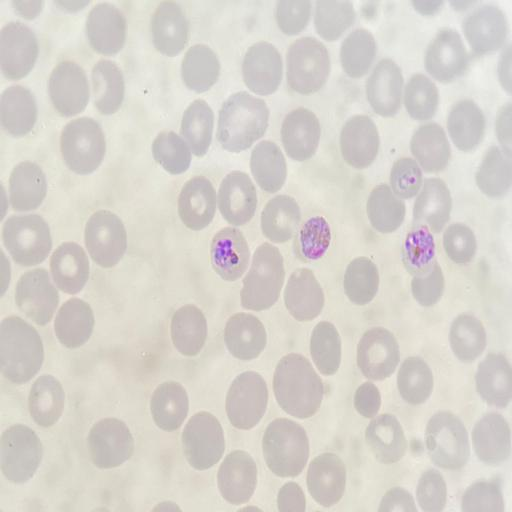Infected: (209, 227, 249, 279), (401, 225, 439, 276), (389, 157, 424, 197), (300, 216, 332, 258)
Uninfected: (273, 351, 327, 420), (238, 246, 286, 312), (0, 317, 46, 383), (216, 94, 269, 151), (82, 210, 129, 271), (224, 371, 270, 430), (2, 214, 53, 267), (58, 117, 106, 173), (261, 419, 309, 474), (423, 412, 469, 468), (285, 38, 331, 93), (180, 412, 225, 468), (14, 269, 59, 325), (86, 418, 134, 470), (48, 61, 92, 116), (1, 423, 43, 480), (240, 43, 285, 95), (0, 21, 41, 78), (355, 328, 400, 379), (279, 108, 322, 161), (339, 114, 381, 168), (462, 5, 507, 55), (179, 101, 218, 158), (218, 170, 259, 224), (424, 32, 469, 81), (364, 413, 408, 463), (85, 4, 128, 55), (222, 313, 267, 361), (7, 161, 50, 211), (49, 242, 91, 293), (216, 452, 258, 503), (177, 177, 218, 229), (283, 268, 324, 320), (365, 62, 405, 115), (411, 178, 452, 229), (151, 2, 191, 54), (470, 412, 510, 464), (53, 298, 95, 347), (150, 381, 191, 431), (305, 456, 346, 506), (169, 305, 209, 356), (445, 99, 485, 150), (0, 84, 39, 136), (179, 44, 221, 92), (339, 30, 380, 79), (91, 60, 128, 114), (365, 185, 406, 233), (249, 139, 288, 189), (474, 352, 512, 403), (259, 196, 301, 242), (409, 123, 449, 171), (27, 375, 65, 425), (309, 321, 343, 376), (476, 146, 511, 199), (152, 130, 193, 175), (343, 257, 381, 304), (395, 357, 434, 402), (448, 314, 486, 360), (402, 73, 440, 119), (312, 2, 353, 41), (410, 264, 445, 305), (274, 1, 313, 36), (442, 223, 476, 263), (463, 478, 502, 512), (416, 470, 449, 510), (353, 382, 383, 416)
